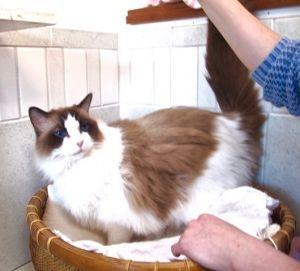ragdoll: (23, 92, 107, 167)
